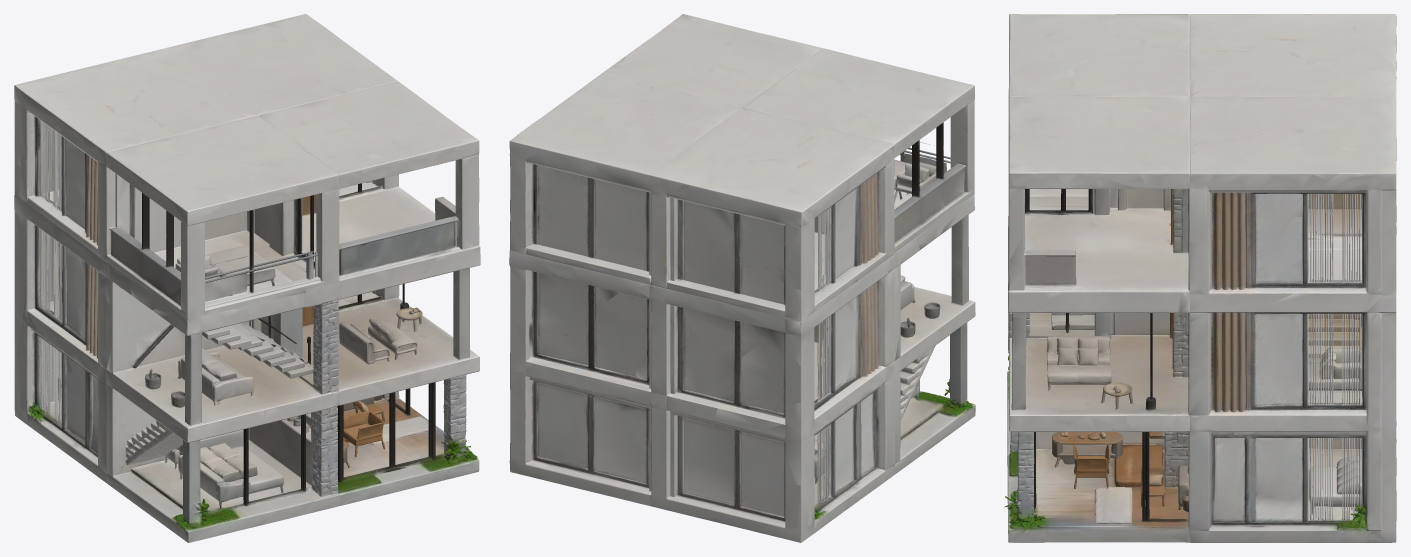
Rendered from building.glb.
The picture shows the model from 3 angles, left to right: view 1: azimuth 30°, elevation 25°; view 2: azimuth 150°, elevation 25°; view 3: azimuth 270°, elevation 25°; orthographic projection. The views are drawn at different scales.
Parts seen in each view (by area): view 1: model; view 2: model; view 3: model.
Boxes of the visible parts, x1,y1,x2,y2 form: model: (14,14,480,542); model: (509,14,975,542); model: (1004,14,1396,542).
Bounding box in the file's own units: 1.83 × 1.91 × 1.83.
Materials: 1 (1 with a texture image).
